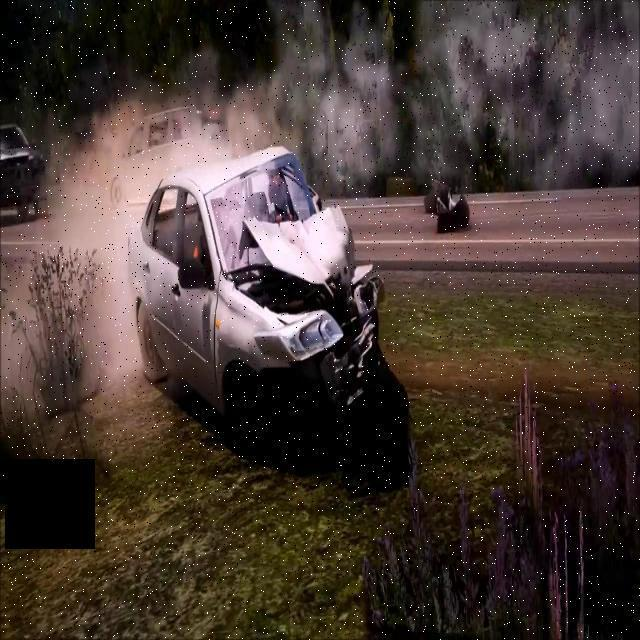single accident: (73, 100, 443, 463)
